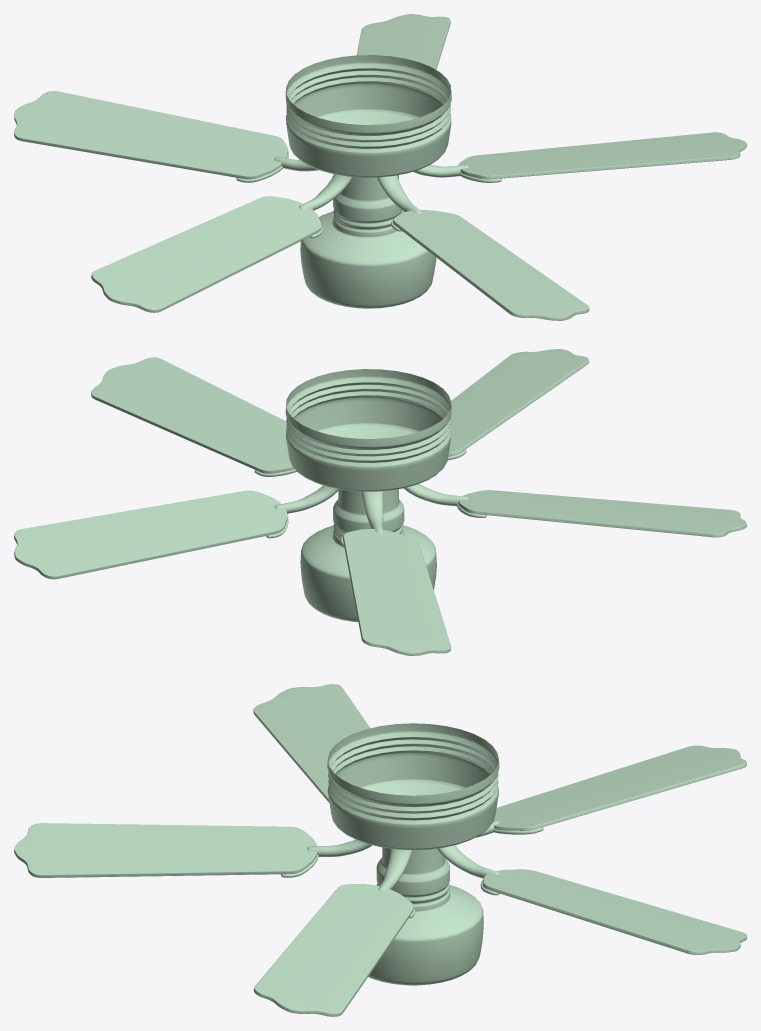
Rendered from Ceiling_Fan_Gen_1.fbx.
3 views of the same model, one above another, from view 1: azimuth 30°, elevation 25°; view 2: azimuth 150°, elevation 25°; view 3: azimuth 270°, elevation 25° (orthographic). The views are drawn at different scales.
Parts seen in each view (by area): view 1: mesh_fan_gen_1; view 2: mesh_fan_gen_1; view 3: mesh_fan_gen_1.
Part boxes in pixels (x1=…): mesh_fan_gen_1: x1=14, y1=14, x2=746, y2=320; mesh_fan_gen_1: x1=14, y1=349, x2=746, y2=655; mesh_fan_gen_1: x1=14, y1=684, x2=746, y2=1016.
Size of the model in its own units: 173 by 55.71 by 167.
